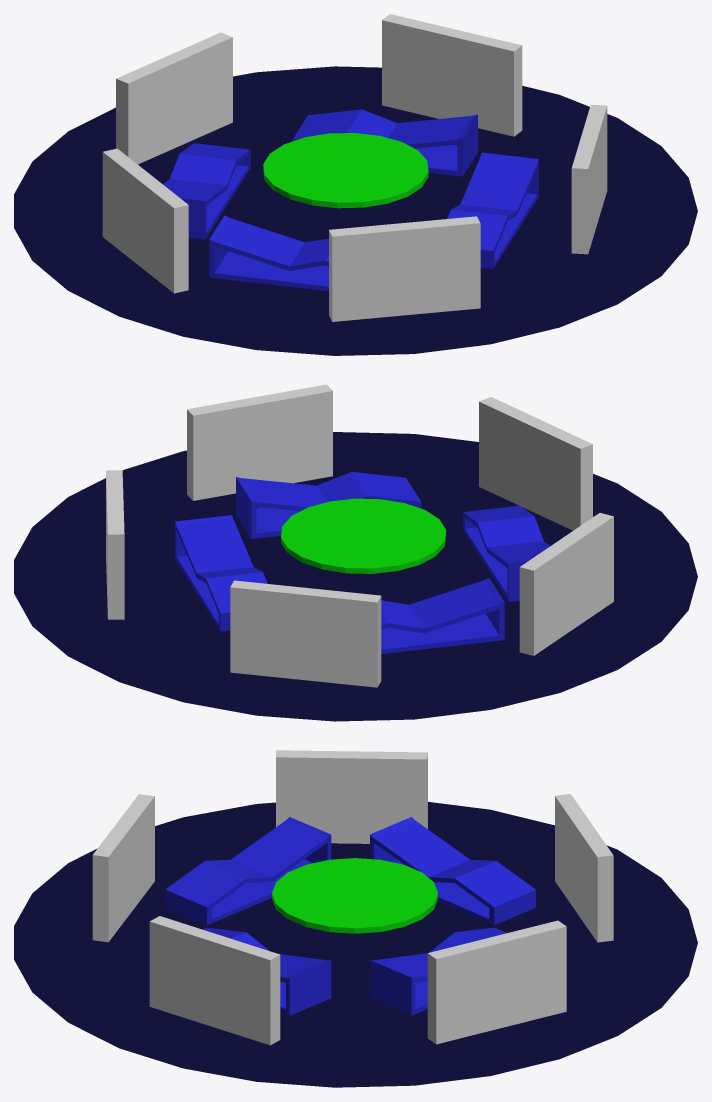
Rendered from glassdome_collider.fbx.
The picture shows the model from 3 angles, top to bottom: view 1: azimuth 30°, elevation 25°; view 2: azimuth 150°, elevation 25°; view 3: azimuth 270°, elevation 25°; orthographic projection.
Visible parts, largest first — view 1: glassdome_collider; view 2: glassdome_collider; view 3: glassdome_collider.
Part boxes in pixels (bbox=[...]): glassdome_collider: bbox=[14, 14, 697, 355]; glassdome_collider: bbox=[14, 384, 697, 721]; glassdome_collider: bbox=[14, 750, 697, 1087].
Bounding box in the file's own units: 767 × 108 × 765.
